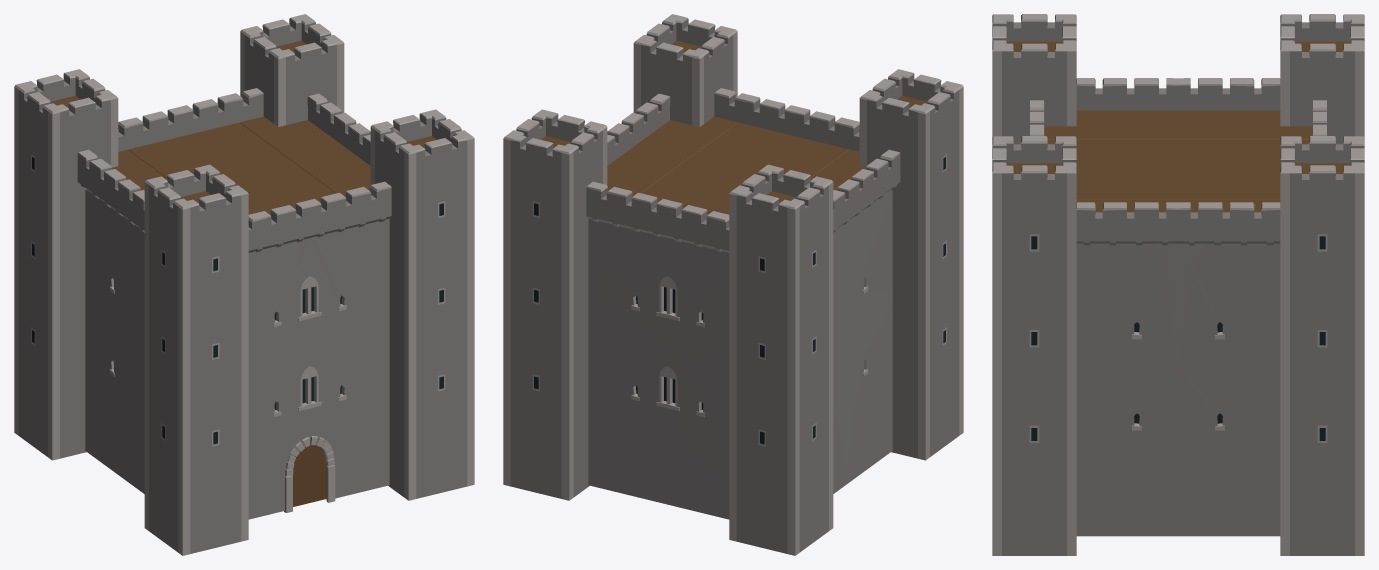
Rendered from castle-medieval.glb.
3 views of the same model, side by side, from view 1: azimuth 30°, elevation 25°; view 2: azimuth 150°, elevation 25°; view 3: azimuth 270°, elevation 25° (orthographic). The views are drawn at different scales.
Visible parts, largest first — view 1: castle-medieval; view 2: castle-medieval; view 3: castle-medieval.
Part boxes in pixels (x1,y1,x2,y2): castle-medieval: [14, 14, 474, 555]; castle-medieval: [503, 14, 963, 555]; castle-medieval: [992, 14, 1364, 555].
Bounding box in the file's own units: 20.38 × 23.2 × 20.36.
Materials: 1 (1 with a texture image).
